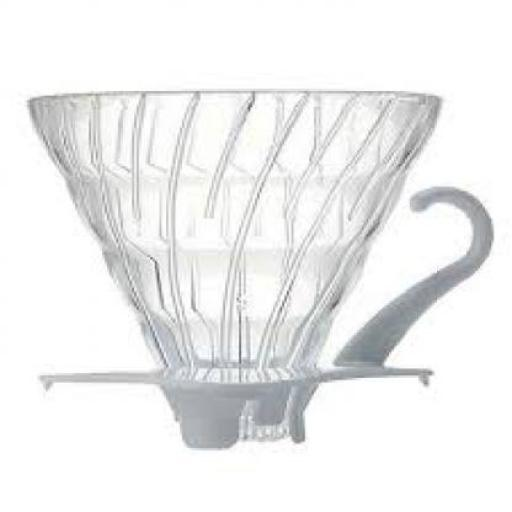glass: (24, 91, 440, 437)
